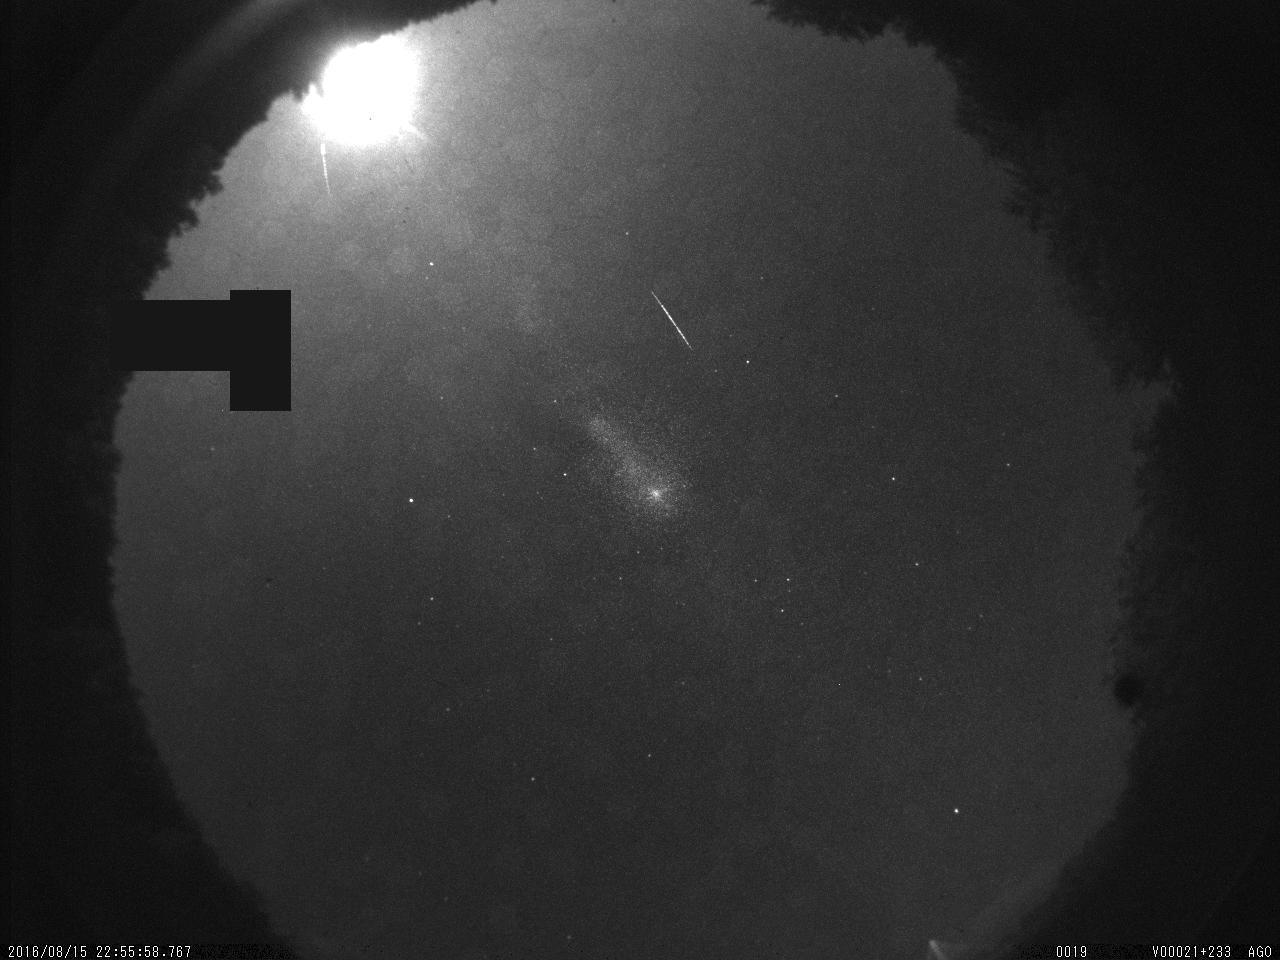meteor: (640, 283, 706, 364)
